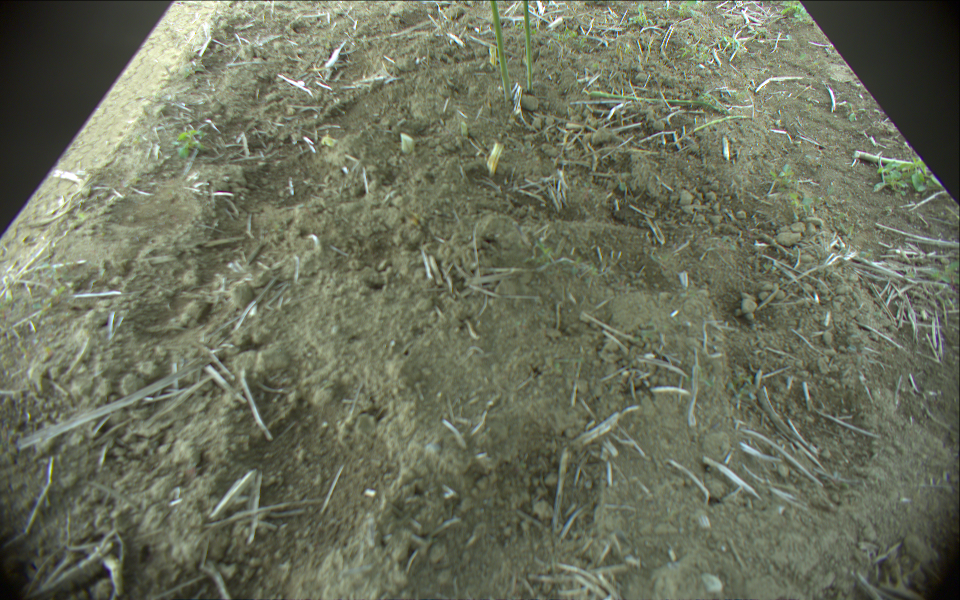aspa: (483, 1, 513, 101), (670, 111, 755, 146), (589, 89, 714, 109), (854, 150, 926, 172), (518, 1, 534, 92)
